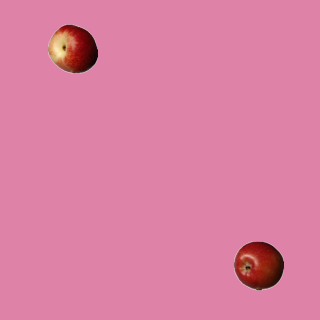Apple Braeburn: (233, 240, 283, 290)
Nectarine: (47, 23, 97, 73)
